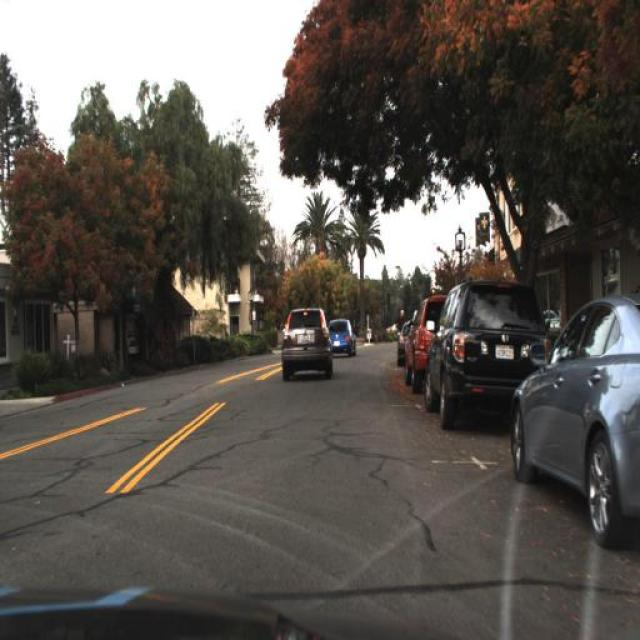car: (508, 291, 640, 553), (423, 278, 551, 437), (402, 292, 452, 396), (278, 304, 334, 378), (325, 316, 357, 356)
